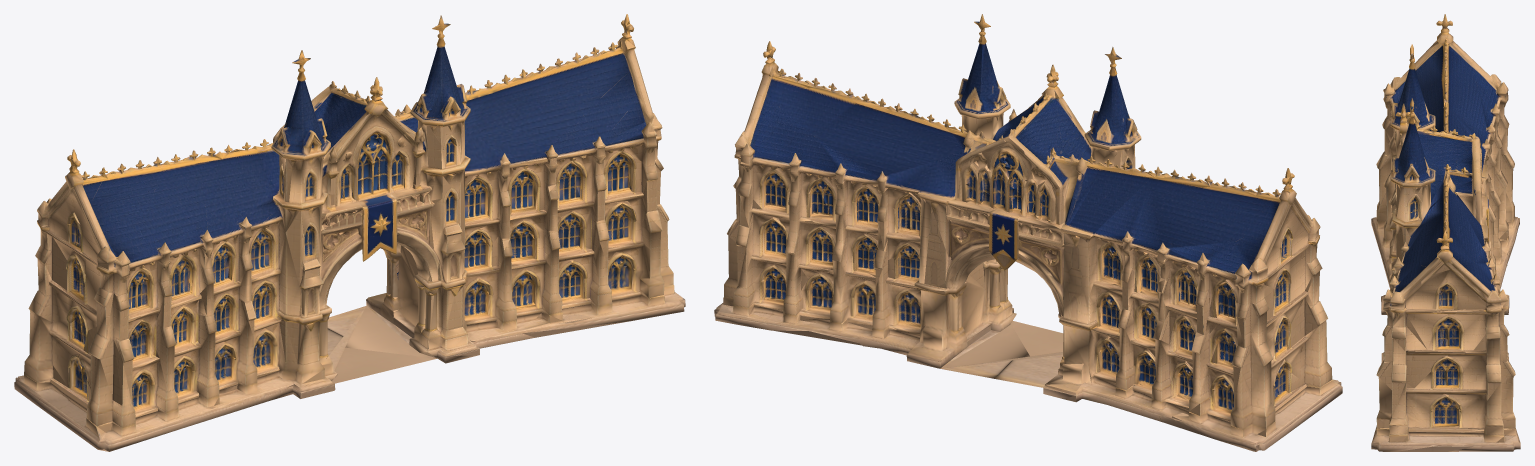
File: great-hall.glb
3 views of the same model, side by side, from view 1: azimuth 30°, elevation 25°; view 2: azimuth 150°, elevation 25°; view 3: azimuth 270°, elevation 25° (orthographic). The views are drawn at different scales.
Parts seen in each view (by area): view 1: Mesh_0; view 2: Mesh_0; view 3: Mesh_0.
Part boxes in pixels (x1,y1,x2,y2): Mesh_0: (14,14,685,451); Mesh_0: (714,14,1342,451); Mesh_0: (1371,14,1520,451).
Size of the model in its own units: 26 by 13.99 by 7.12.
Materials: 1 (1 with a texture image).
